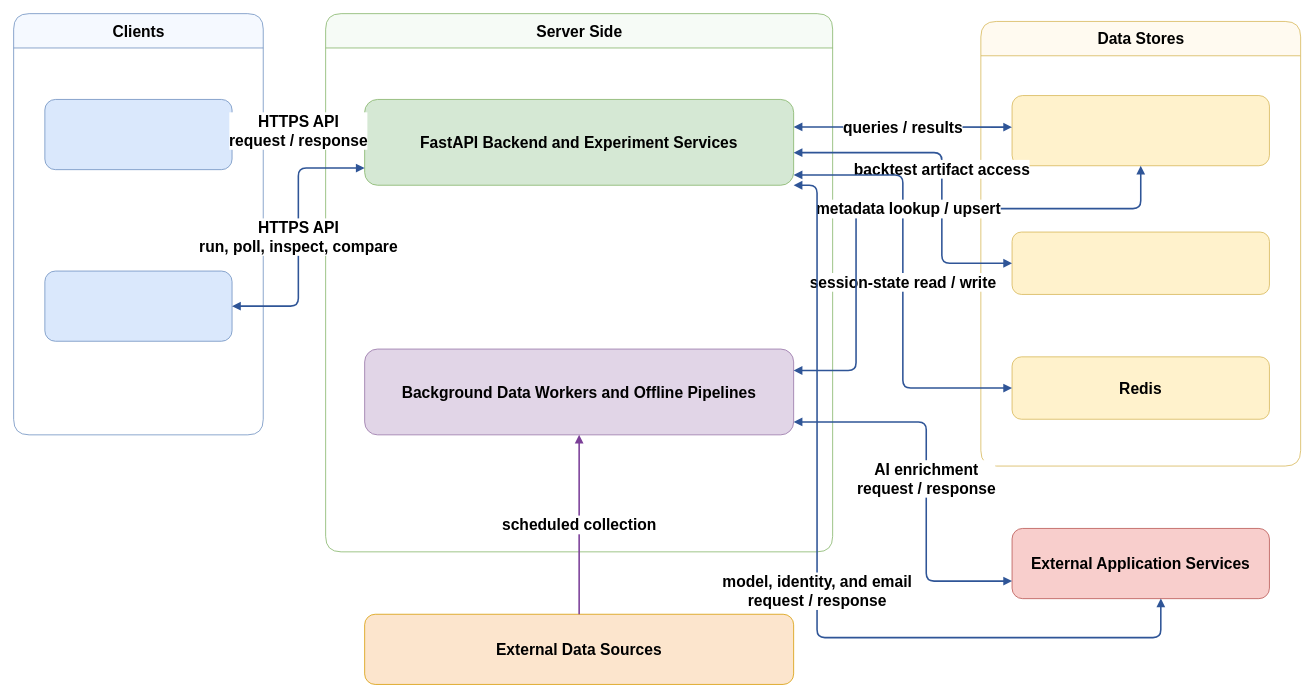
Some shapes in this 1314 by 698 pixel diagram are drawn without their labels. The centre of each missing label's shape, as x and y in pixels:
"Mobile Application" goes at (138,134).
"Stockrium Lab" goes at (138,305).
"Supabase PostgreSQL Application and Experiment Records" goes at (1140,130).
"Supabase Storage" goes at (1140,262).
